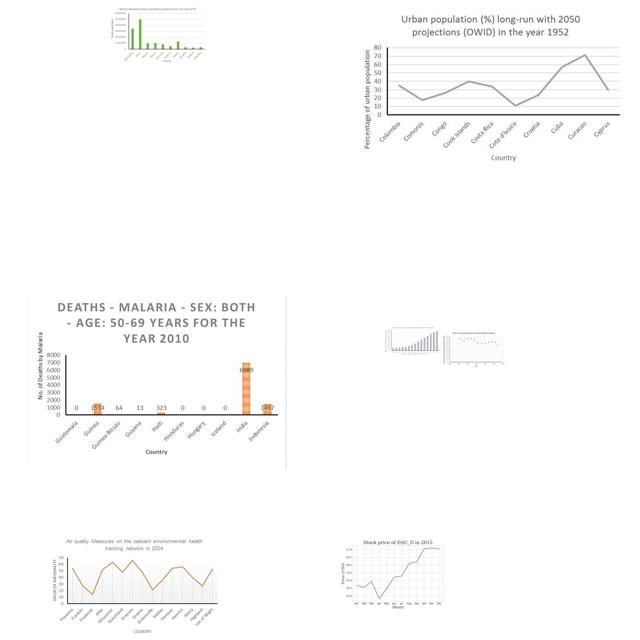Graph: (28, 296, 287, 469), (358, 10, 624, 165), (49, 535, 219, 637), (338, 529, 455, 617), (110, 6, 206, 63), (442, 331, 506, 369), (384, 326, 440, 356)
